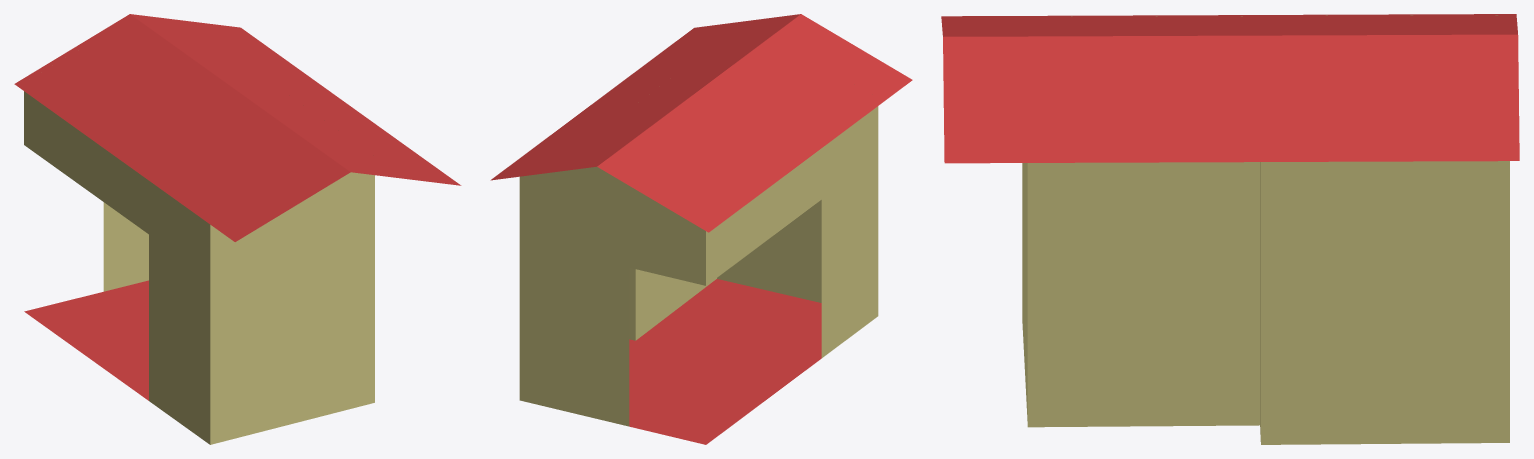
3 views of the same model, side by side, from view 1: azimuth 30°, elevation 25°; view 2: azimuth 150°, elevation 25°; view 3: azimuth 270°, elevation 25° (orthographic). The views are drawn at different scales.
Size of the model in its own units: 9.34 by 15.29 by 10.33.
